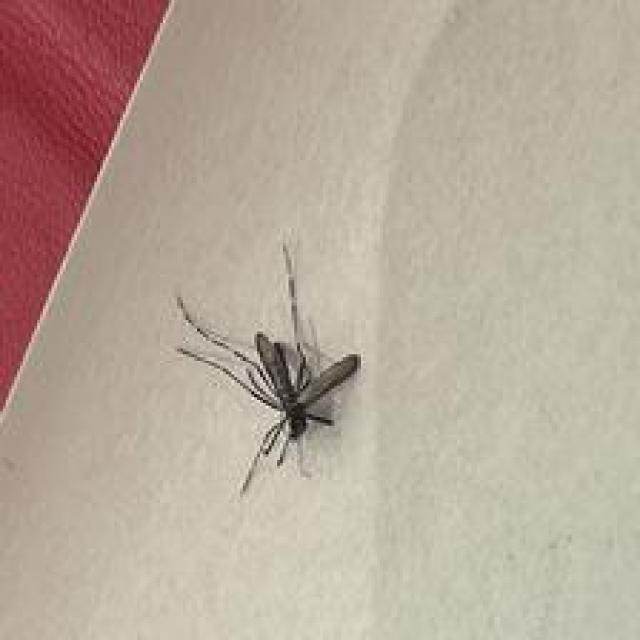Aedes albopictus: (171, 237, 360, 497)
